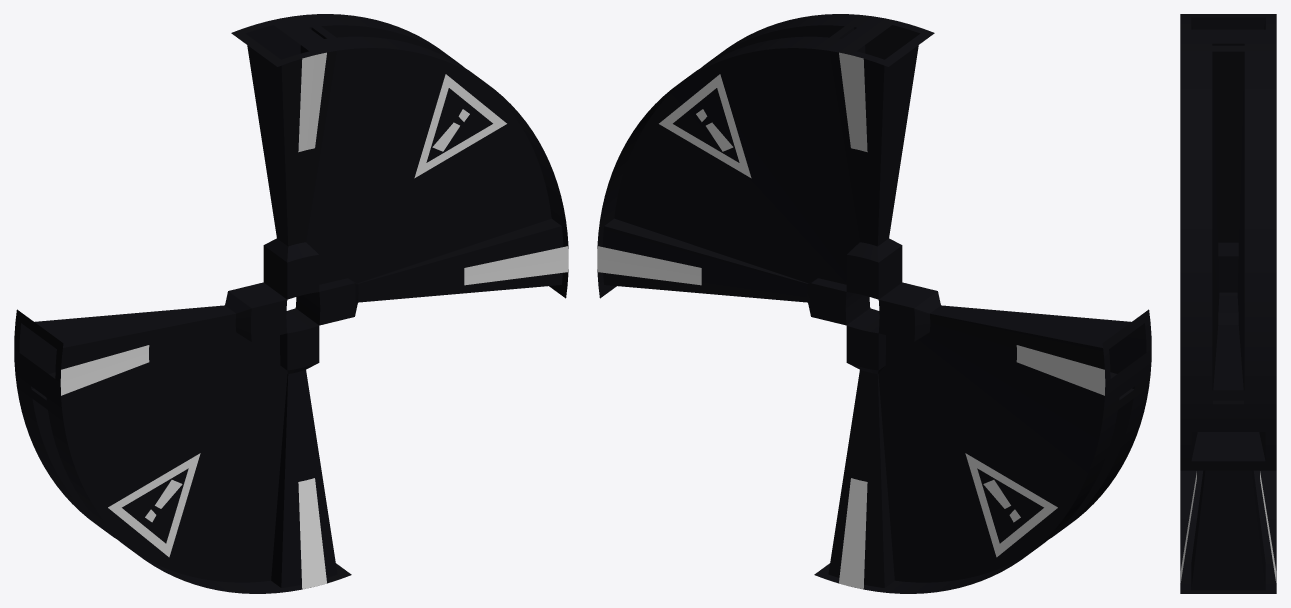
The model's file is LD50-Obstacle-Tower-Four-03.glb.
3 views of the same model, side by side, from view 1: azimuth 30°, elevation 25°; view 2: azimuth 150°, elevation 25°; view 3: azimuth 270°, elevation 25° (orthographic). The views are drawn at different scales.
Visible parts, largest first — view 1: Obstacle-Tower-four-03; view 2: Obstacle-Tower-four-03; view 3: Obstacle-Tower-four-03.
Boxes of the visible parts, <box> form: Obstacle-Tower-four-03: <box>14,14,568,593</box>; Obstacle-Tower-four-03: <box>597,14,1151,593</box>; Obstacle-Tower-four-03: <box>1180,14,1276,593</box>.
Bounding box in the file's own units: 30 × 30 × 4.76.
Materials: 2 (1 with a texture image).
